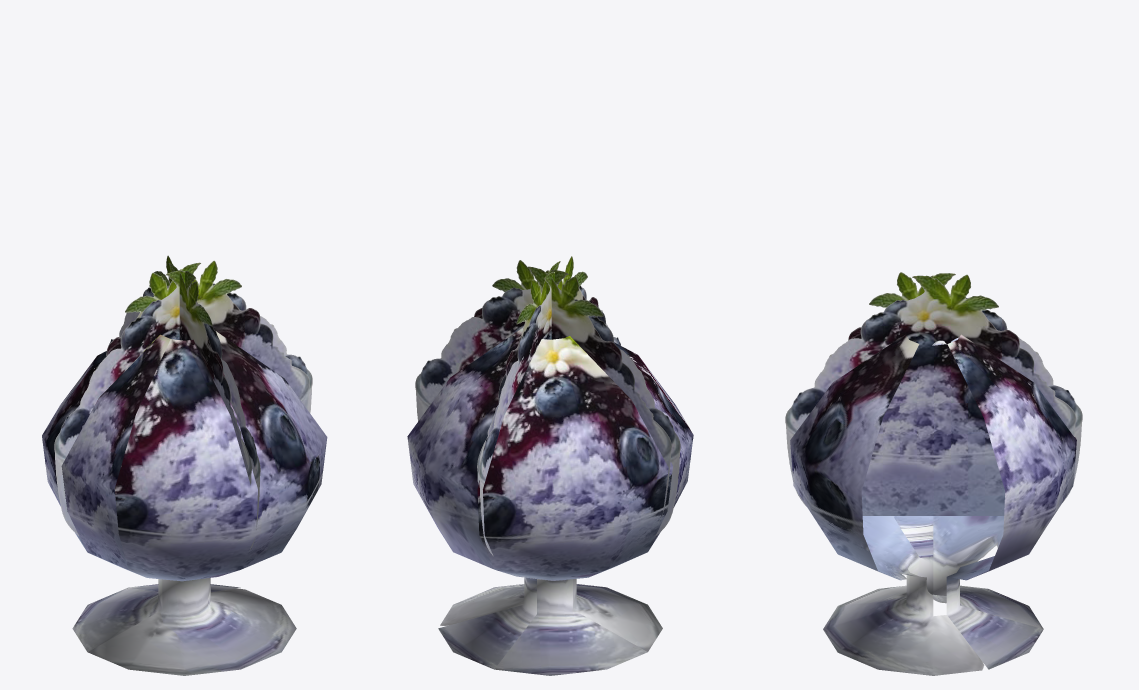
File: Sorbet.fbx
The picture shows the model from 3 angles, left to right: view 1: azimuth 30°, elevation 25°; view 2: azimuth 150°, elevation 25°; view 3: azimuth 270°, elevation 25°; orthographic projection.
Parts seen in each view (by area): view 1: Cylinder, Cylinder.005; view 2: Cylinder, Cylinder.005; view 3: Cylinder, Cylinder.005.
Boxes of the visible parts, <box> form: Cylinder: <box>42,331,327,675</box>; Cylinder.005: <box>54,255,312,550</box>; Cylinder: <box>407,326,693,675</box>; Cylinder.005: <box>415,256,680,555</box>; Cylinder: <box>790,334,1076,675</box>; Cylinder.005: <box>785,272,1082,515</box>.
Size of the model in its own units: 2199 by 3401 by 2199.
Materials: 2 (2 with a texture image).
